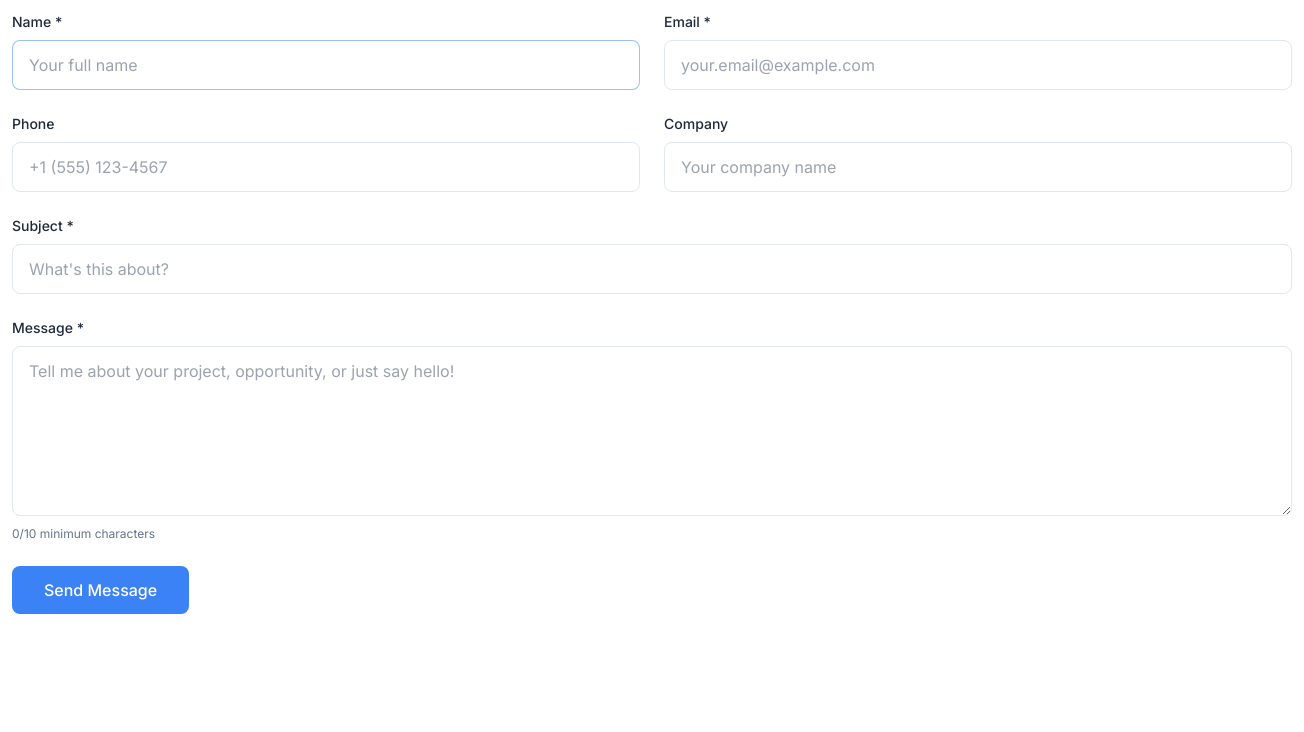
it: ContactForm › Form Validation › validates required fields on submit
Click the button "Send Message".
click(101, 590)  # box x1=12 y1=566 x2=189 y2=614
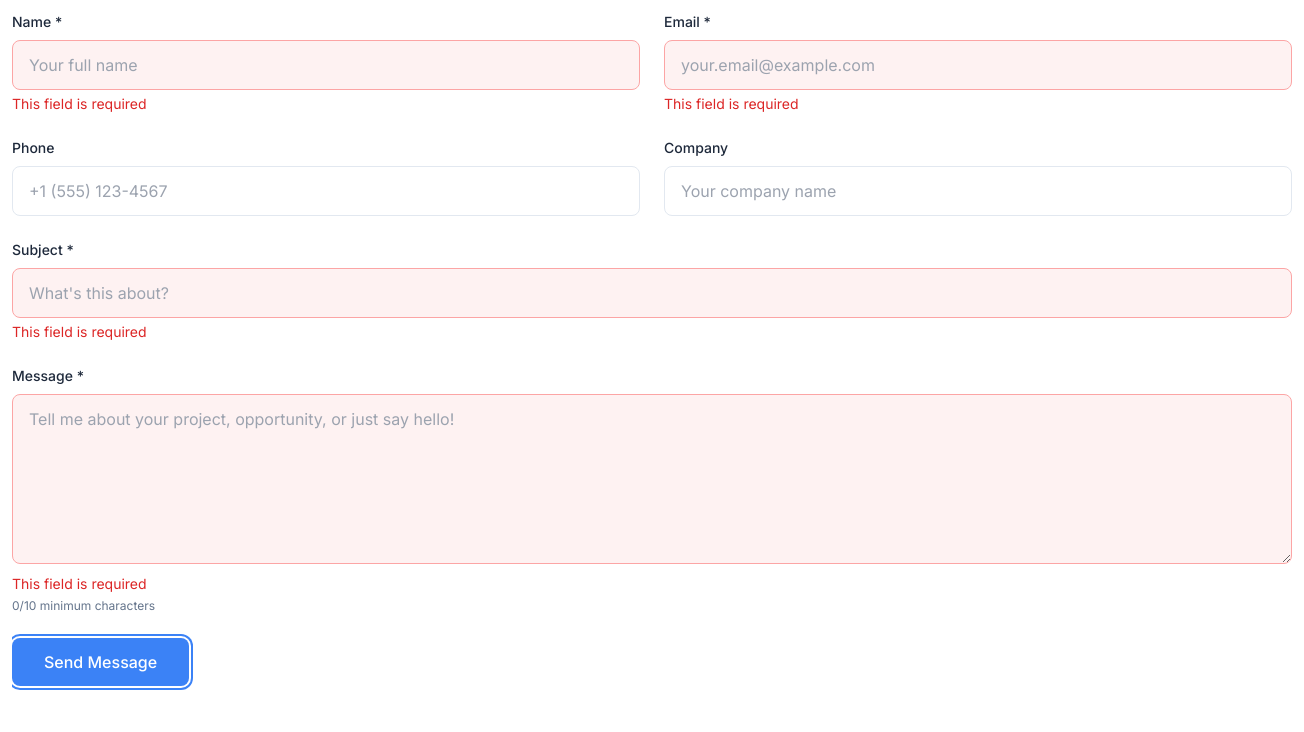
Expected: the text "This field is required" is shown 4 times, x1=12 y1=95 x2=147 y2=112; x1=664 y1=95 x2=799 y2=112; x1=12 y1=323 x2=147 y2=340; x1=12 y1=575 x2=147 y2=592
